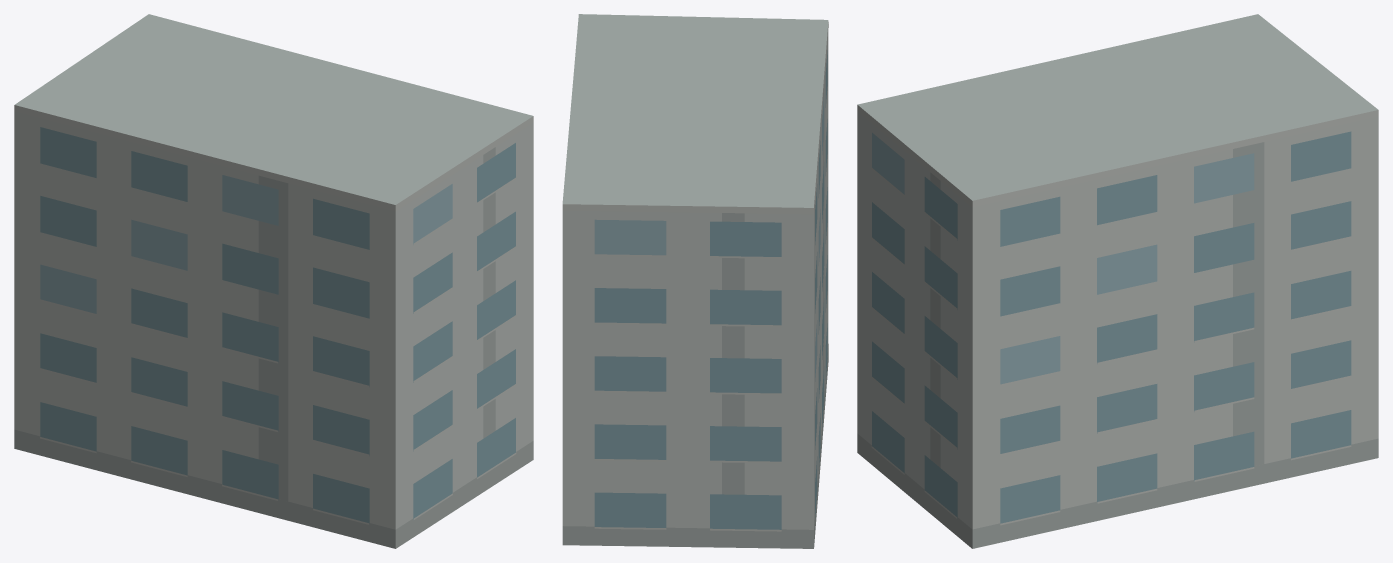
Rendered from survey-upis-32893708.glb.
3 renders of one model, left to right at view 1: azimuth 30°, elevation 25°; view 2: azimuth 150°, elevation 25°; view 3: azimuth 270°, elevation 25°, orthographic. The views are drawn at different scales.
Parts seen in each view (by area): view 1: survey-upis-32893708.tmp; view 2: survey-upis-32893708.tmp; view 3: survey-upis-32893708.tmp.
Part boxes in pixels (box(x1,y1,x2,y2)): survey-upis-32893708.tmp: box(14, 14, 533, 548); survey-upis-32893708.tmp: box(562, 14, 828, 548); survey-upis-32893708.tmp: box(857, 14, 1378, 548).
Size of the model in its own units: 14.97 by 13 by 17.66.
